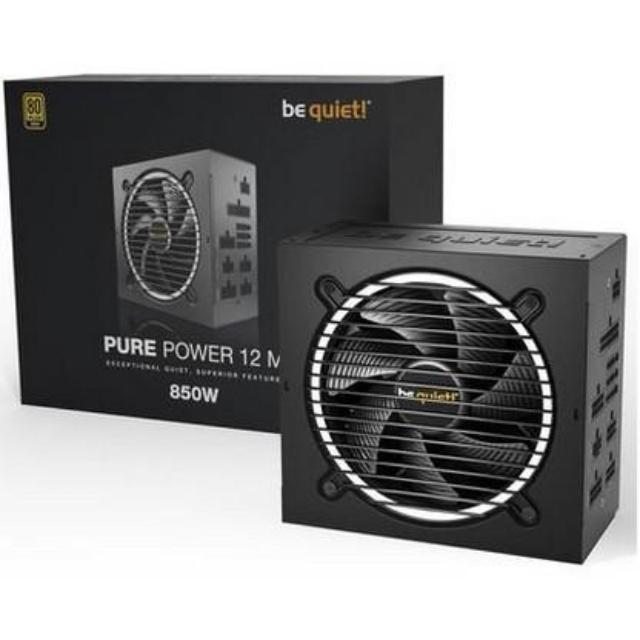PSU: (266, 216, 636, 574)
